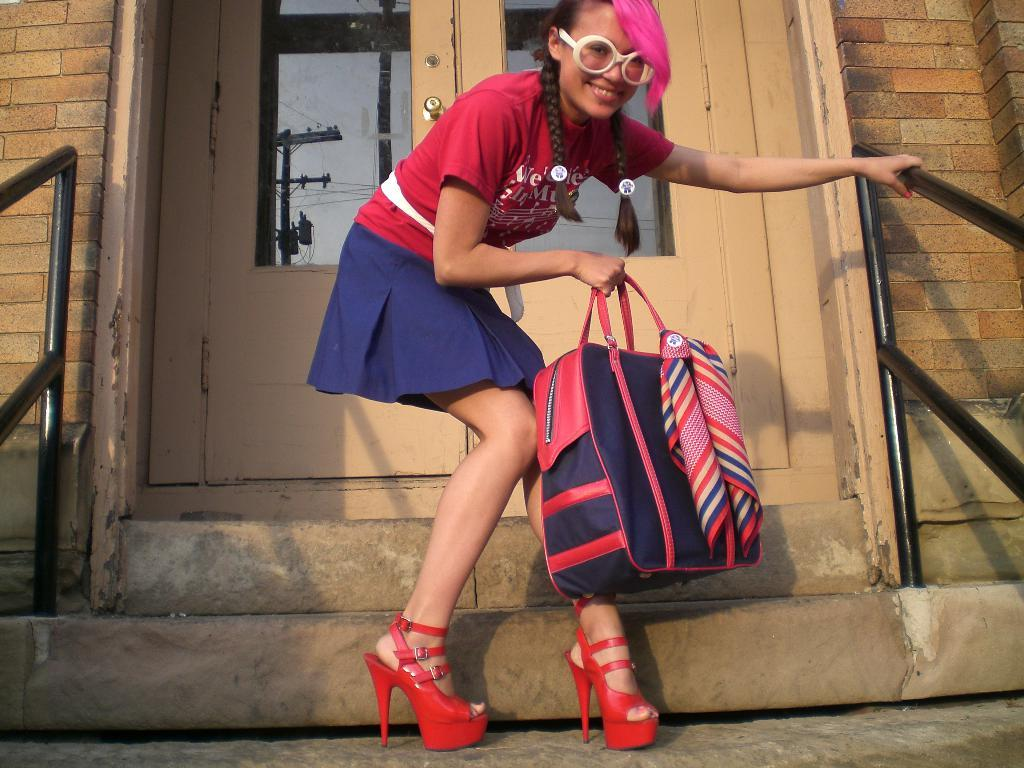Luggage-and-bags: (547, 275, 766, 595)
